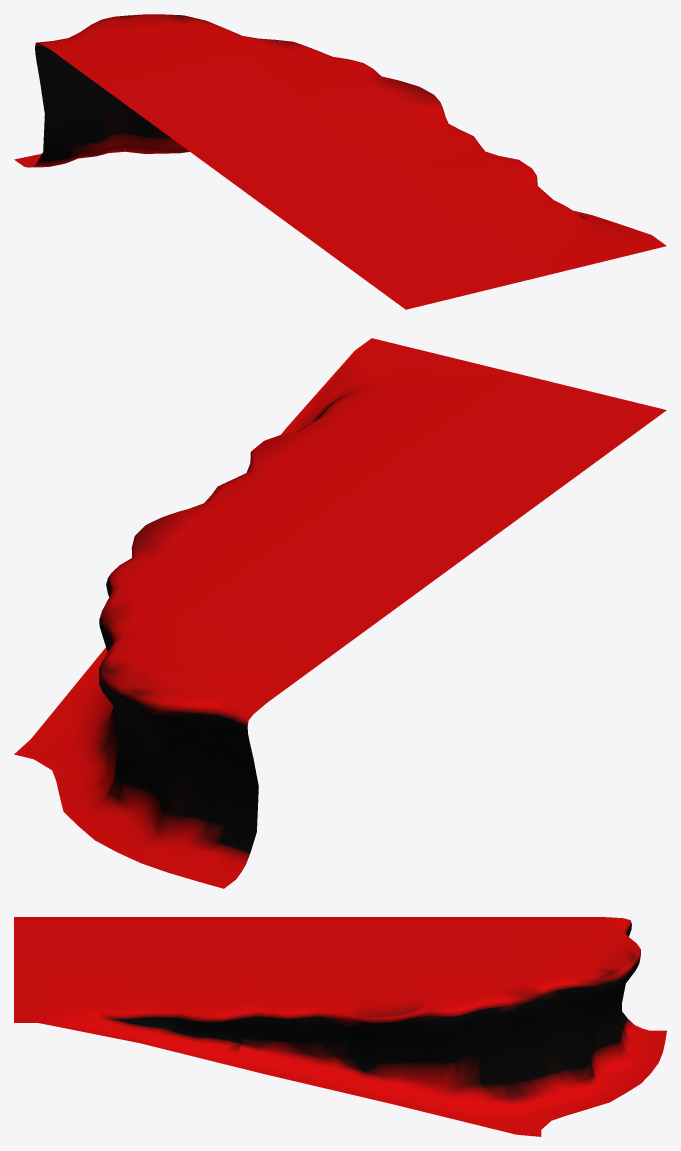
File: ClimbCliff01B 1M Background.fbx
3 renders of one model, top to bottom at view 1: azimuth 30°, elevation 25°; view 2: azimuth 150°, elevation 25°; view 3: azimuth 270°, elevation 25°, orthographic. The views are drawn at different scales.
Visible parts, largest first — view 1: ClimbCliff01B 1M Background; view 2: ClimbCliff01B 1M Background; view 3: ClimbCliff01B 1M Background.
Boxes of the visible parts, x1,y1,x2,y2 form: ClimbCliff01B 1M Background: (14, 14, 666, 309); ClimbCliff01B 1M Background: (14, 338, 666, 888); ClimbCliff01B 1M Background: (14, 917, 666, 1136).
Size of the model in its own units: 2 by 1 by 5.2.
